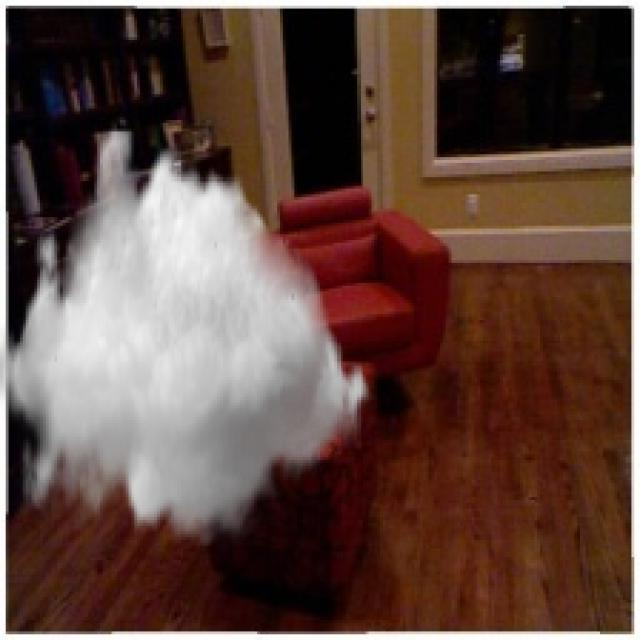smoke: (0, 128, 377, 546)
